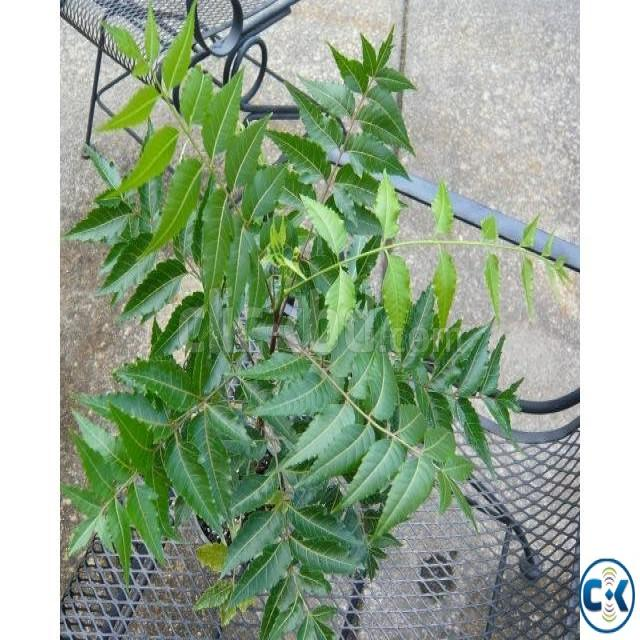Medicinal-Neem: (67, 20, 572, 640)
